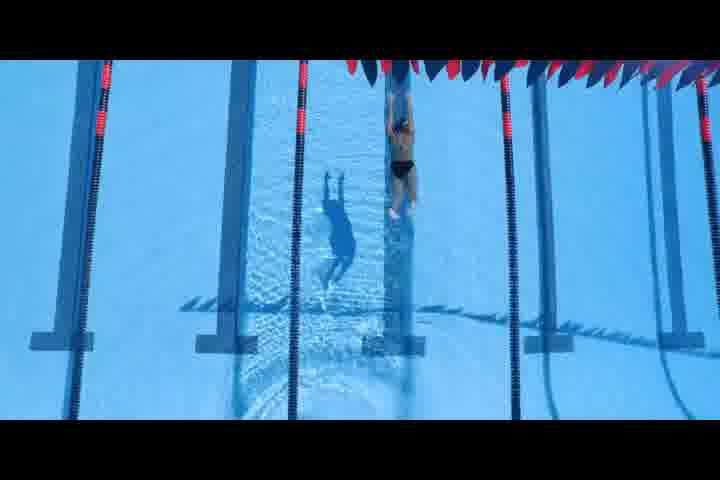human: (382, 90, 428, 224)
